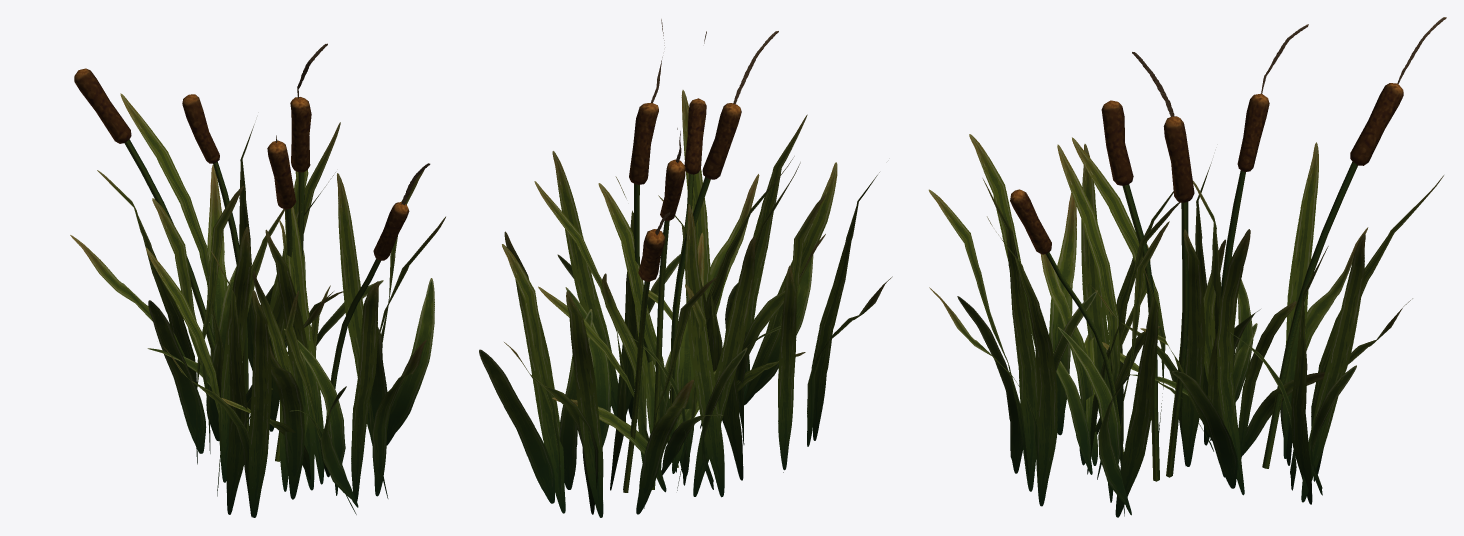
The model's file is Reeds_2.fbx.
3 renders of one model, left to right at view 1: azimuth 30°, elevation 25°; view 2: azimuth 150°, elevation 25°; view 3: azimuth 270°, elevation 25°, orthographic. The views are drawn at different scales.
Visible parts, largest first — view 1: Reeds_2; view 2: Reeds_2; view 3: Reeds_2.
Part boxes in pixels (x1,y1,x2,y2): Reeds_2: [70, 43, 445, 517]; Reeds_2: [479, 19, 892, 517]; Reeds_2: [928, 17, 1446, 517].
Bounding box in the file's own units: 2.28 × 3.12 × 3.2.
